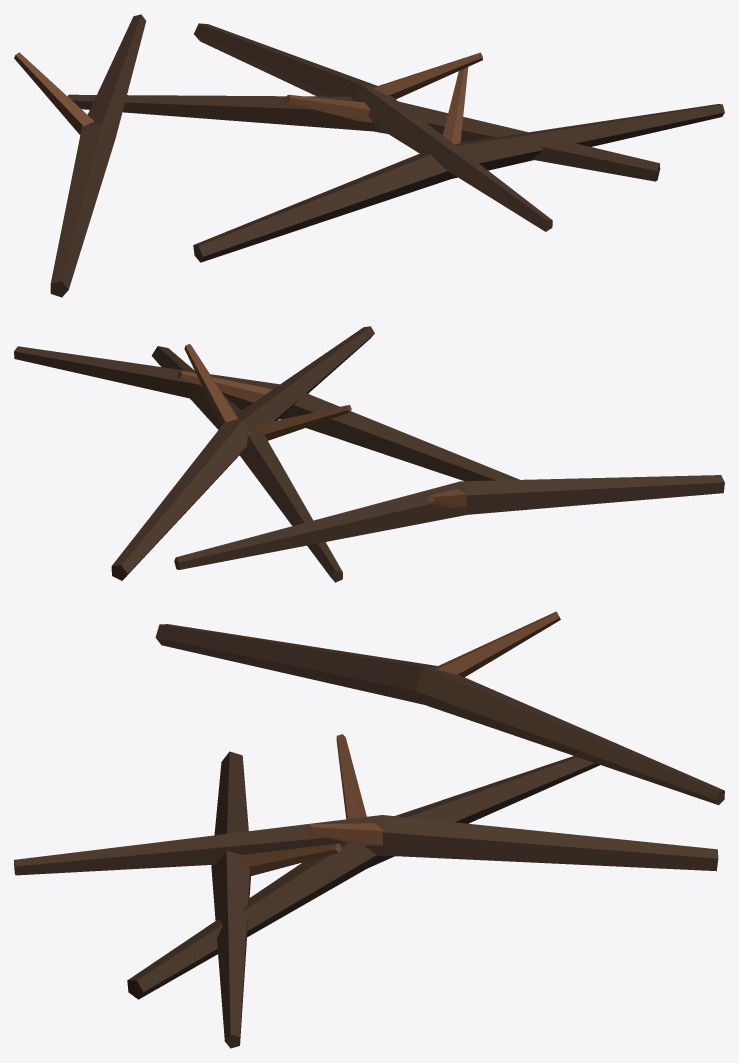
Rendered from Prop_Common_BranchTangle_001_LOD1.glb.
The picture shows the model from 3 angles, top to bottom: view 1: azimuth 30°, elevation 25°; view 2: azimuth 150°, elevation 25°; view 3: azimuth 270°, elevation 25°; orthographic projection. The views are drawn at different scales.
Parts seen in each view (by area): view 1: Prop_Common_BranchTangle_001_LOD1; view 2: Prop_Common_BranchTangle_001_LOD1; view 3: Prop_Common_BranchTangle_001_LOD1.
Part boxes in pixels (bbox=[...]): Prop_Common_BranchTangle_001_LOD1: bbox=[14, 14, 724, 297]; Prop_Common_BranchTangle_001_LOD1: bbox=[14, 326, 724, 582]; Prop_Common_BranchTangle_001_LOD1: bbox=[14, 611, 724, 1048].
Bounding box in the file's own units: 2.8 × 0.4511 × 2.12.
